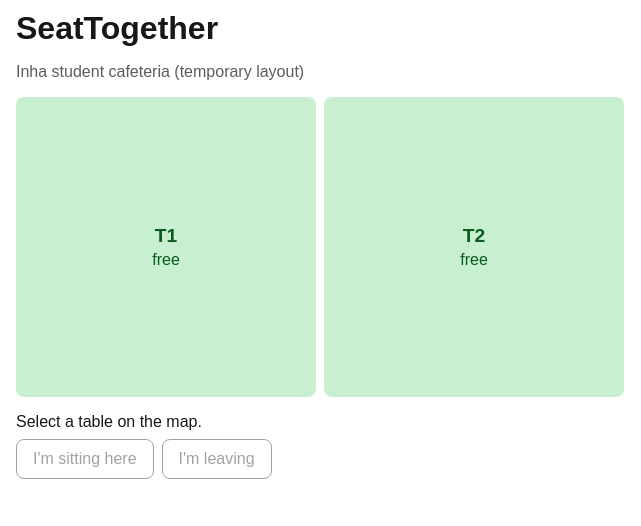
Test: C1 automatic map refresh › ignores a slow poll that finishes after a check-in
Click the button "T1 free" at (166, 247), box [16,97,316,397]
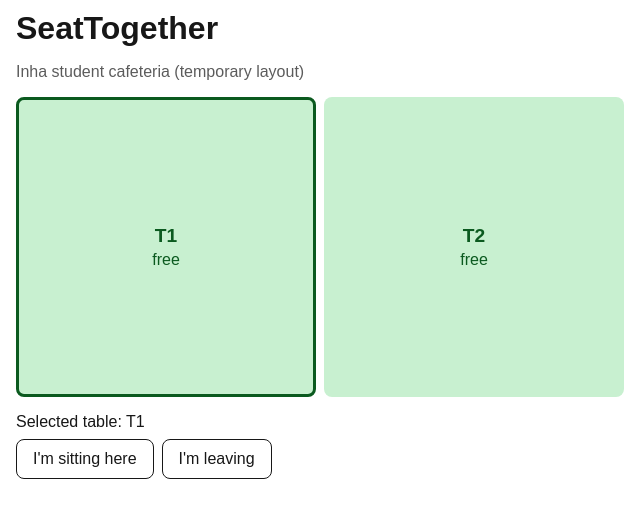
Click the button "I'm sitting here" at (85, 459), box [16,439,154,479]
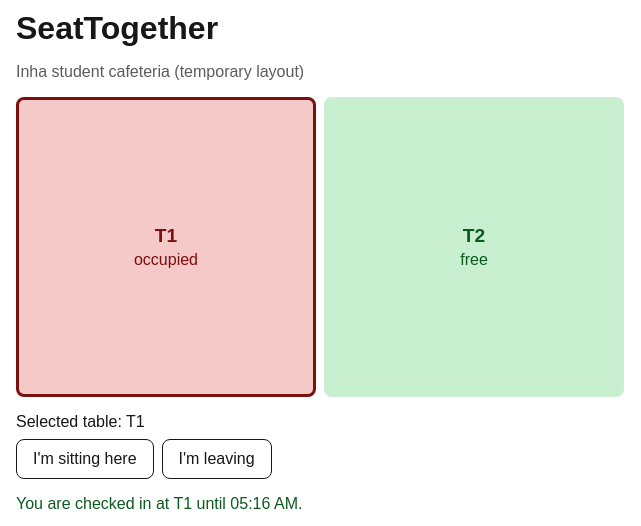
Expected: the button "T1 occupied" is shown, [16,97,316,397]
